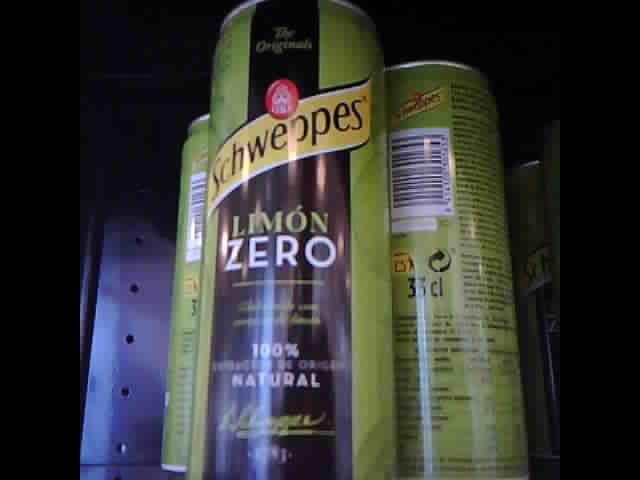schweppes: (187, 1, 396, 478), (384, 41, 531, 476), (162, 96, 213, 472)
